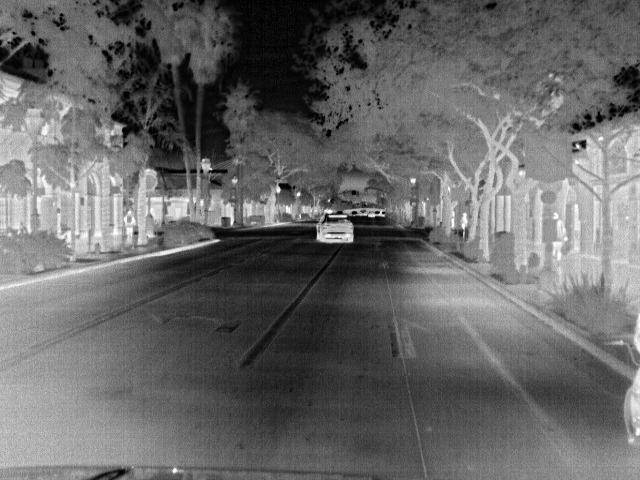car: (316, 213, 355, 245)
person: (549, 208, 569, 259), (123, 208, 137, 240), (459, 211, 470, 238)
